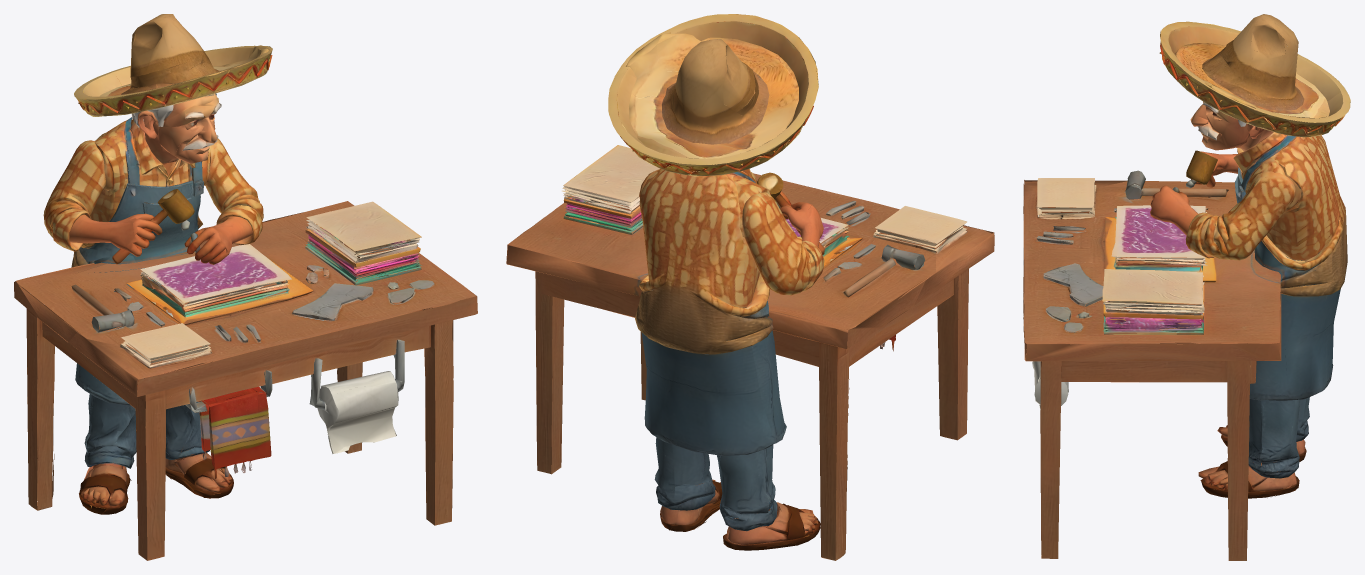
Rendered from artesano.obj.
The picture shows the model from 3 angles, left to right: view 1: azimuth 30°, elevation 25°; view 2: azimuth 150°, elevation 25°; view 3: azimuth 270°, elevation 25°; orthographic projection. The views are drawn at different scales.
Parts seen in each view (by area): view 1: mesaArtesano, cuerpoArtesano, brazoMartilloArtesano, brazoCincelArtesano; view 2: cuerpoArtesano, mesaArtesano, brazoMartilloArtesano; view 3: mesaArtesano, cuerpoArtesano, brazoCincelArtesano, brazoMartilloArtesano.
Part boxes in pixels (<box>): mesaArtesano: <box>14,201,477,560</box>; cuerpoArtesano: <box>71,14,272,514</box>; brazoMartilloArtesano: <box>43,140,194,264</box>; brazoCincelArtesano: <box>184,138,263,264</box>; cuerpoArtesano: <box>608,14,820,550</box>; mesaArtesano: <box>506,145,994,560</box>; brazoMartilloArtesano: <box>742,172,824,295</box>; mesaArtesano: <box>1023,170,1281,560</box>; cuerpoArtesano: <box>1159,14,1350,498</box>; brazoCincelArtesano: <box>1150,171,1295,260</box>; brazoMartilloArtesano: <box>1186,150,1238,188</box>.
Size of the model in its own units: 1.45 by 1.89 by 1.22.
Materials: 5 (5 with a texture image).
